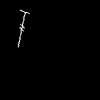treble_crochet: (18, 10, 26, 46)
